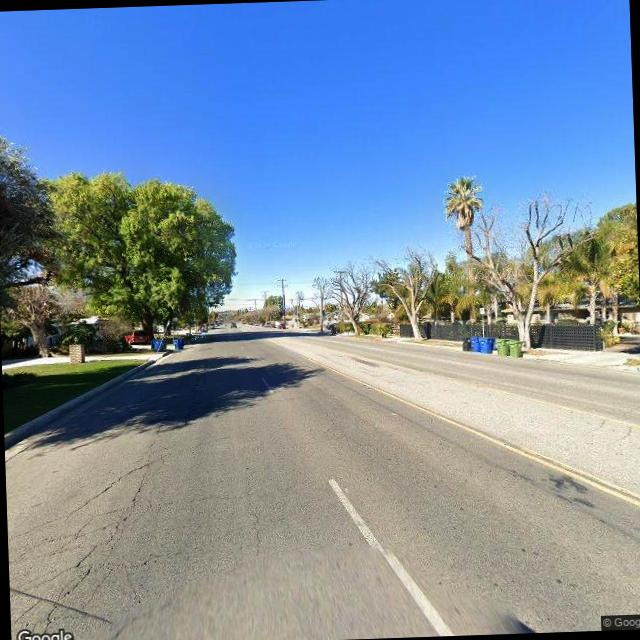crack: (4, 430, 185, 636)
pothole: (247, 507, 266, 555)
